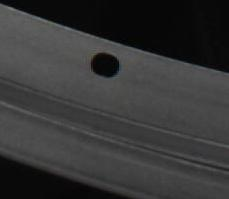holes: (88, 51, 120, 78)
